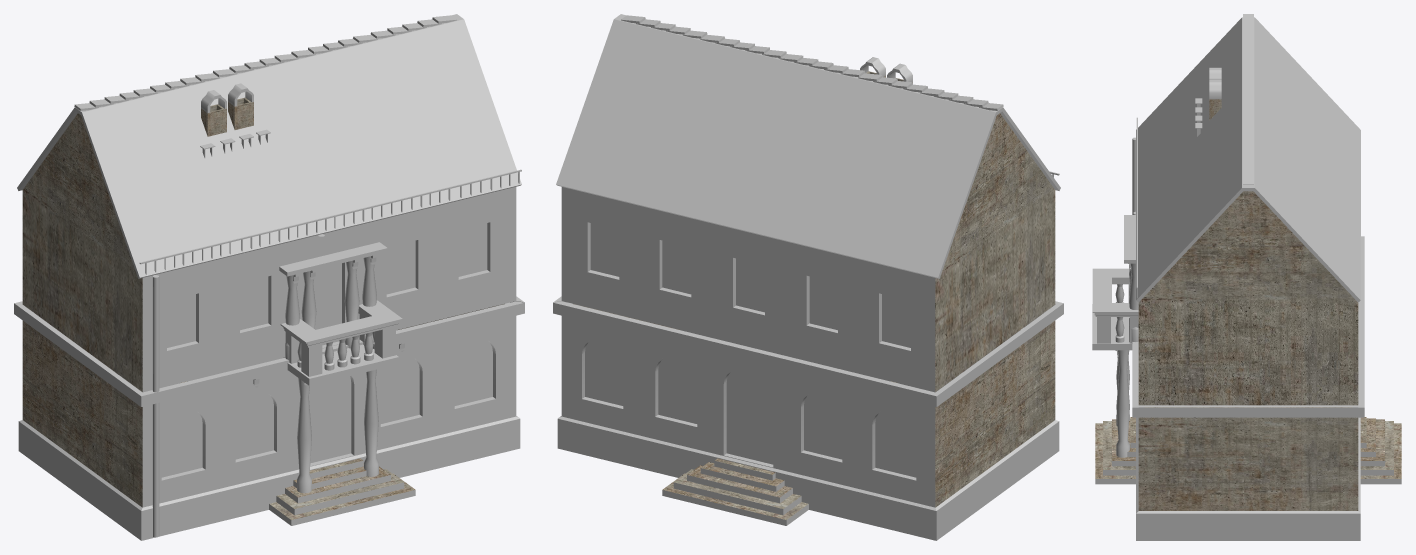
The model's file is ec_house6.fbx.
The picture shows the model from 3 angles, left to right: view 1: azimuth 30°, elevation 25°; view 2: azimuth 150°, elevation 25°; view 3: azimuth 270°, elevation 25°; orthographic projection. The views are drawn at different scales.
Parts seen in each view (by area): view 1: Mesh; view 2: Mesh; view 3: Mesh.
Part boxes in pixels (x1,y1,x2,y2): Mesh: (14, 14, 524, 540); Mesh: (553, 14, 1063, 540); Mesh: (1092, 14, 1401, 540).
Size of the model in its own units: 924 by 897 by 705.
